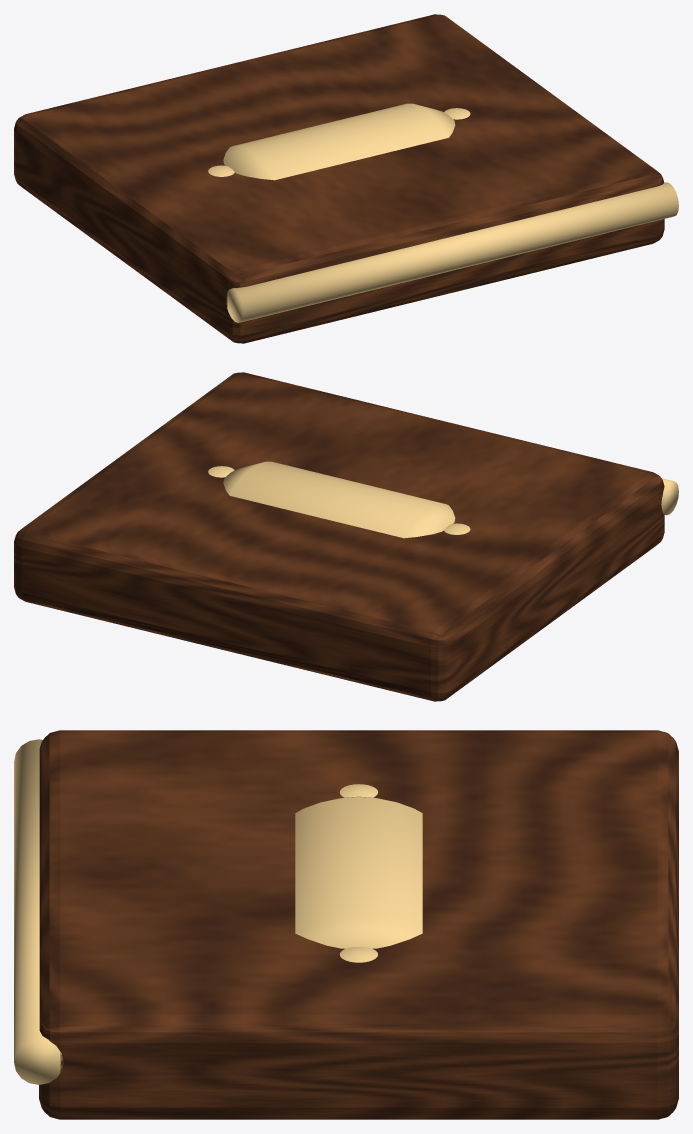
File: shelf.glb
3 views of the same model, one above another, from view 1: azimuth 30°, elevation 25°; view 2: azimuth 150°, elevation 25°; view 3: azimuth 270°, elevation 25° (orthographic). The views are drawn at different scales.
Visible parts, largest first — view 1: ShelfMid, ShelfCapL, ShelfCapR; view 2: ShelfMid, ShelfCapL, ShelfCapR; view 3: ShelfMid, ShelfCapL, ShelfCapR.
Part boxes in pixels (left/top/right/bottom): ShelfMid: left=14, top=14, right=678, bottom=343; ShelfCapL: left=208, top=103, right=455, bottom=179; ShelfCapR: left=223, top=108, right=470, bottom=180; ShelfMid: left=14, top=372, right=678, bottom=701; ShelfCapL: left=223, top=461, right=470, bottom=537; ShelfCapR: left=208, top=466, right=455, bottom=538; ShelfMid: left=14, top=730, right=678, bottom=1119; ShelfCapL: left=295, top=784, right=422, bottom=948; ShelfCapR: left=295, top=796, right=422, bottom=962.
Size of the model in its own units: 1 by 0.21 by 0.935.
2 materials, 1 textured.
